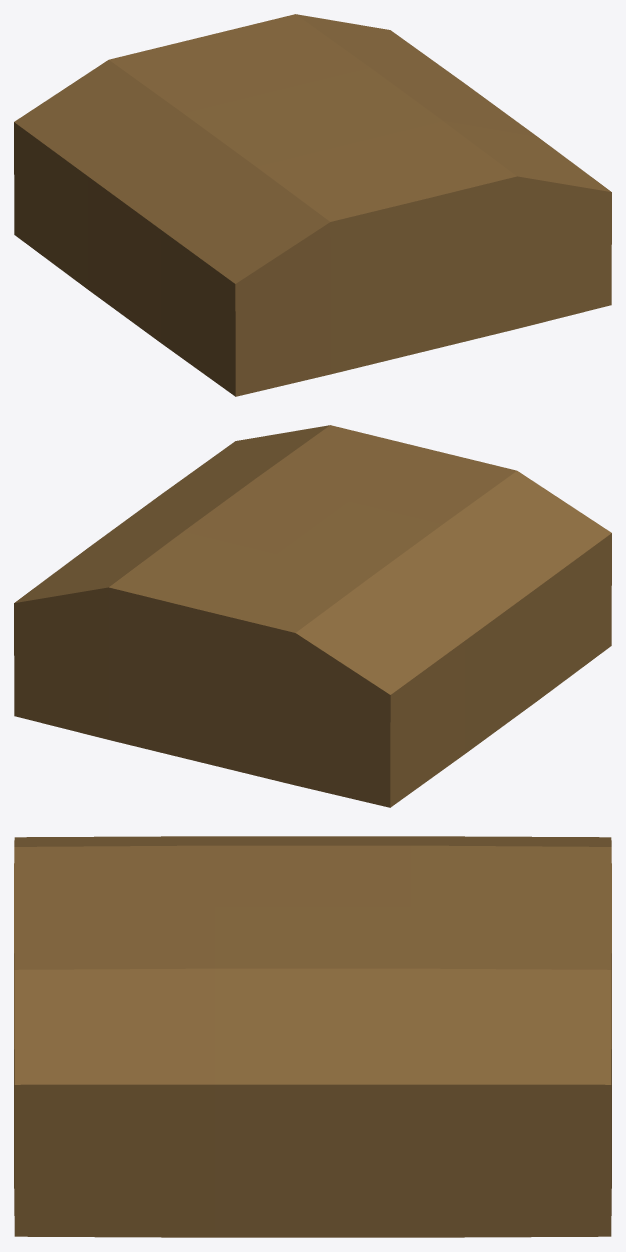
File: Garage.fbx
3 views of the same model, one above another, from view 1: azimuth 30°, elevation 25°; view 2: azimuth 150°, elevation 25°; view 3: azimuth 270°, elevation 25° (orthographic). The views are drawn at different scales.
Parts seen in each view (by area): view 1: Garage; view 2: Garage; view 3: Garage.
Part boxes in pixels (x1,y1,x2,y2): Garage: (14, 14, 611, 396); Garage: (14, 425, 611, 807); Garage: (14, 836, 611, 1237).
Size of the model in its own units: 1017 by 398 by 1034.
